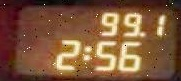-: (137, 30, 143, 36)
1: (151, 11, 165, 36)
2: (51, 36, 80, 70)
5: (91, 38, 115, 71)
6: (116, 40, 140, 71)
9: (118, 11, 140, 36), (97, 10, 118, 36)
X: (80, 43, 90, 61)
